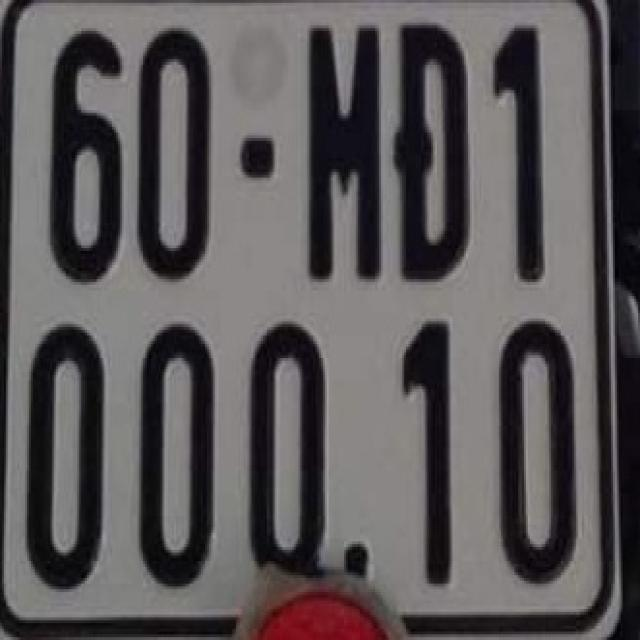0: (242, 312, 334, 580), (494, 313, 581, 586), (134, 316, 220, 589), (23, 317, 108, 591), (132, 22, 216, 282)
1: (395, 313, 465, 586), (490, 21, 556, 281)
6: (46, 22, 126, 282)
D: (392, 20, 474, 282)
M: (301, 17, 384, 282)
